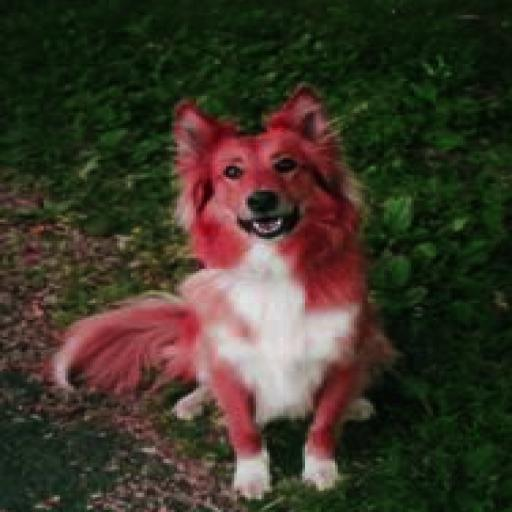dog_face: (178, 87, 331, 254)
